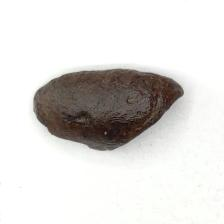NG: (102, 89, 184, 151)
